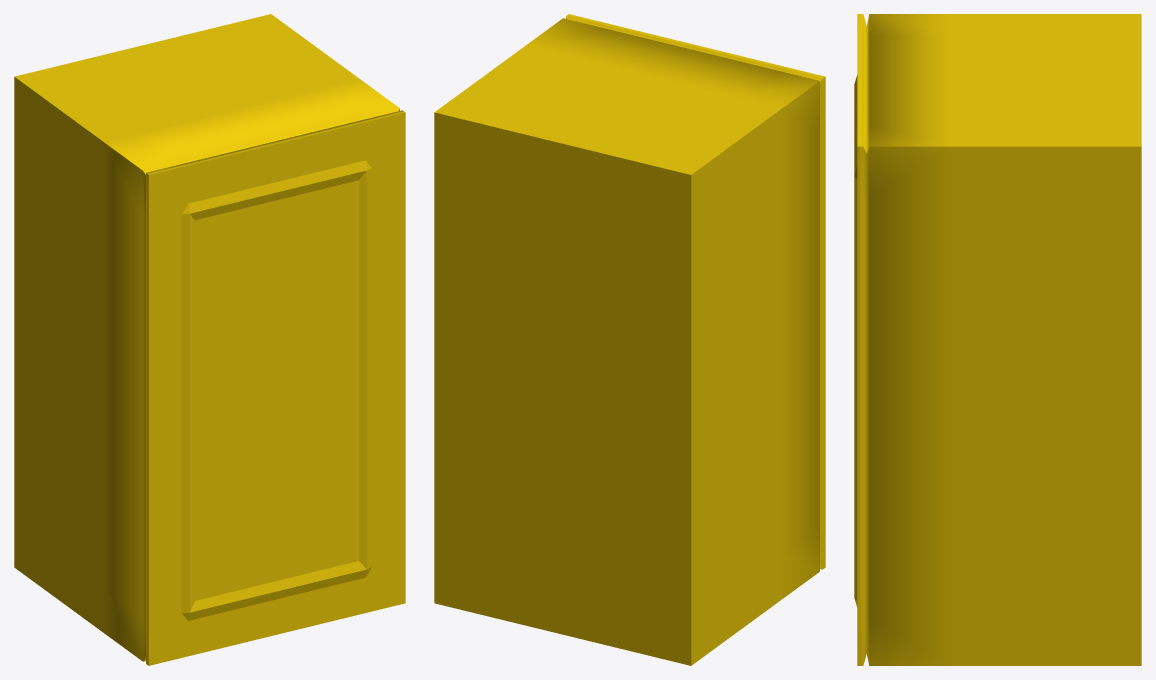
File: Kitchen_Cupboard_3a.FBX
The picture shows the model from 3 angles, left to right: view 1: azimuth 30°, elevation 25°; view 2: azimuth 150°, elevation 25°; view 3: azimuth 270°, elevation 25°; orthographic projection. The views are drawn at different scales.
Parts seen in each view (by area): view 1: Box009; view 2: Box009; view 3: Box009.
Part boxes in pixels (<box>): Box009: <box>14,14,405,665</box>; Box009: <box>434,14,825,665</box>; Box009: <box>854,14,1141,665</box>.
Bounding box in the file's own units: 0.9245 × 1.69 × 0.8468.
